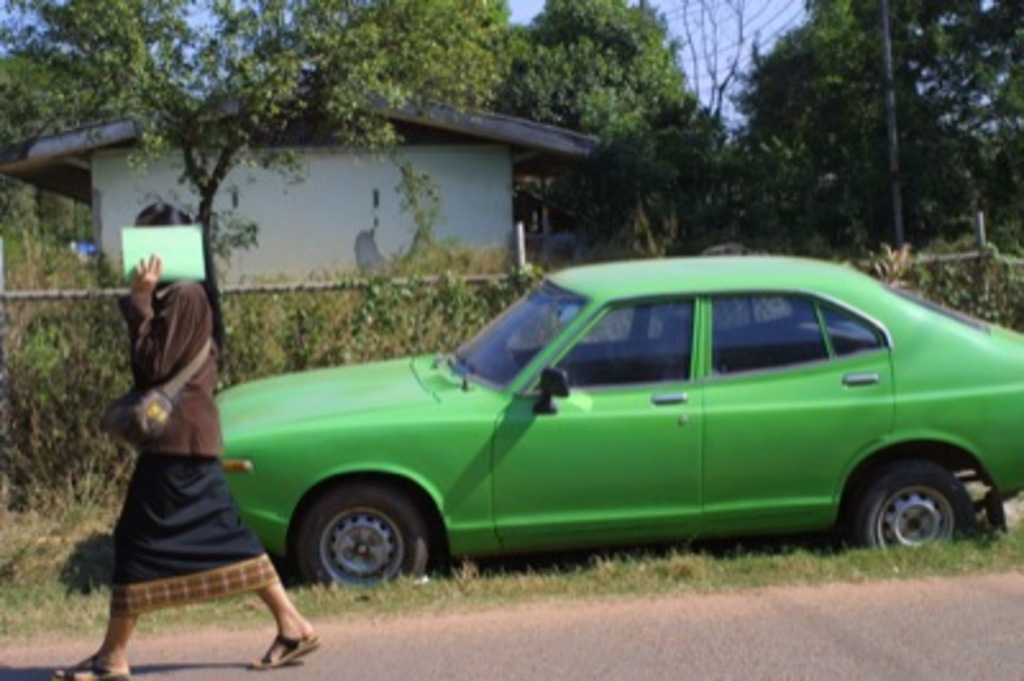Car: (212, 258, 1021, 586)
